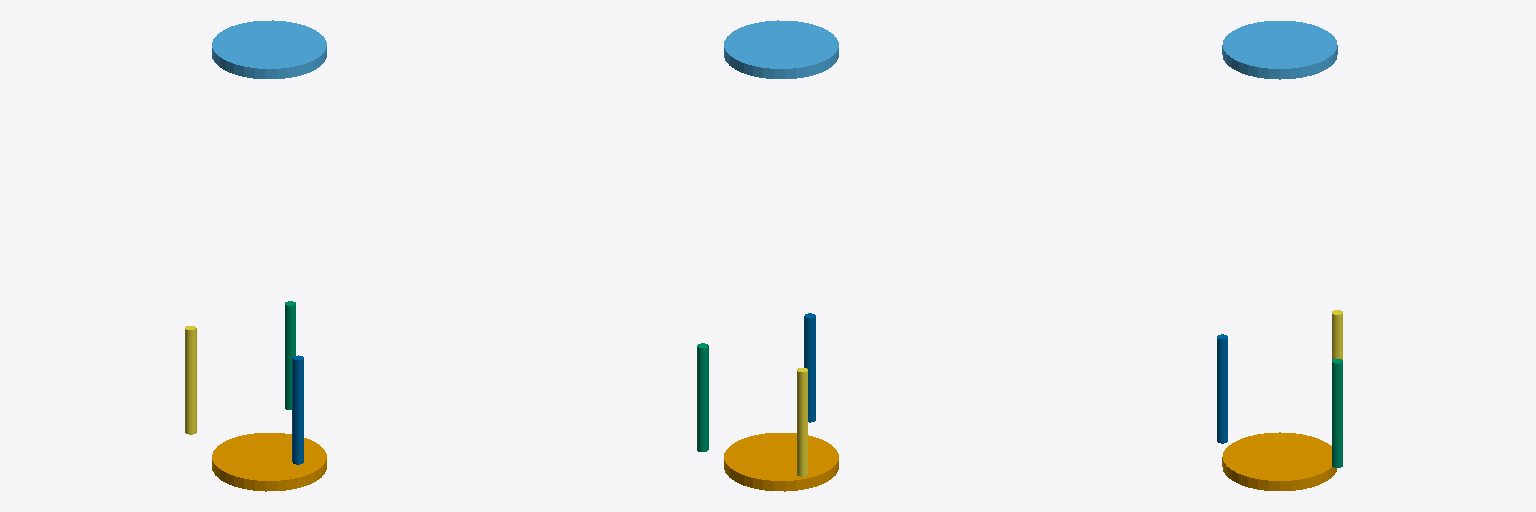
robot.urdf — parallel_platform:
<?xml version="1.0"?>
<robot name="parallel_platform">

  <!-- Base link -->
  <link name="base">
    <visual>
      <geometry>
        <cylinder length="0.1" radius="0.5"/>
      </geometry>
    </visual>
  </link>

  <!-- Platform link -->
  <link name="platform">
    <visual>
      <origin xyz="0 0 3.75" rpy="0 0 0" />
      <geometry>
        <cylinder length="0.1" radius="0.5"/>
      </geometry>
    </visual>
  </link>

  <!-- Leg links -->
  <link name="leg1">
    <visual>
      <geometry>
        <cylinder length="1.0" radius="0.05"/>
      </geometry>
    </visual>
  </link>

  <link name="leg2">
    <visual>
      <geometry>
        <cylinder length="1.0" radius="0.05"/>
      </geometry>
    </visual>
  </link>

  <link name="leg3">
    <visual>
      <geometry>
        <cylinder length="1.0" radius="0.05"/>
      </geometry>
    </visual>
  </link>

  <!-- Joints connecting base to platform and legs -->
  <joint name="base_to_platform" type="fixed">
    <parent link="base"/>
    <child link="platform"/>
    <origin xyz="0 0 0.2" rpy="0 0 0"/>
  </joint>

  <joint name="platform_to_leg1" type="fixed">
    <parent link="platform"/>
    <child link="leg1"/>
    <origin xyz="0.5 0.5 0.5" rpy="0 0 0"/>
  </joint>

  <joint name="platform_to_leg2" type="fixed">
    <parent link="platform"/>
    <child link="leg2"/>
    <origin xyz="-0.5 0.5 0.5" rpy="0 0 0"/>
  </joint>

  <joint name="platform_to_leg3" type="fixed">
    <parent link="platform"/>
    <child link="leg3"/>
    <origin xyz="0 -0.5 0.5" rpy="0 0 0"/>
  </joint>

</robot>

--- What the picture shows (computed from the rendered views, not written in the file) ---
The picture shows the robot from 3 angles, left to right: view 1: azimuth 30°, elevation 25°; view 2: azimuth 150°, elevation 25°; view 3: azimuth 270°, elevation 25°; orthographic projection.
Robot: parallel_platform — 5 links, 4 joints (4 fixed); root link base; default pose: every joint at zero.
Visible links, largest first — view 1: platform, base, leg2, leg3, leg1; view 2: platform, base, leg1, leg2, leg3; view 3: platform, base, leg1, leg3, leg2.
Boxes of the visible links, <box> form: platform: <box>212,20,326,78</box>; base: <box>212,433,326,491</box>; leg2: <box>185,326,196,434</box>; leg3: <box>292,355,303,464</box>; leg1: <box>285,301,295,409</box>; platform: <box>724,20,838,78</box>; base: <box>724,433,838,491</box>; leg1: <box>697,343,708,451</box>; leg2: <box>797,368,807,476</box>; leg3: <box>804,313,815,422</box>; platform: <box>1222,21,1337,79</box>; base: <box>1222,432,1336,490</box>; leg1: <box>1332,359,1342,467</box>; leg3: <box>1217,334,1227,443</box>; leg2: <box>1332,310,1342,359</box>.
Bounding box of the posed robot: 1.1 × 1.1 × 4.05 m (x, y, z).
Geometry: primitives only (box / cylinder / sphere), no mesh files.